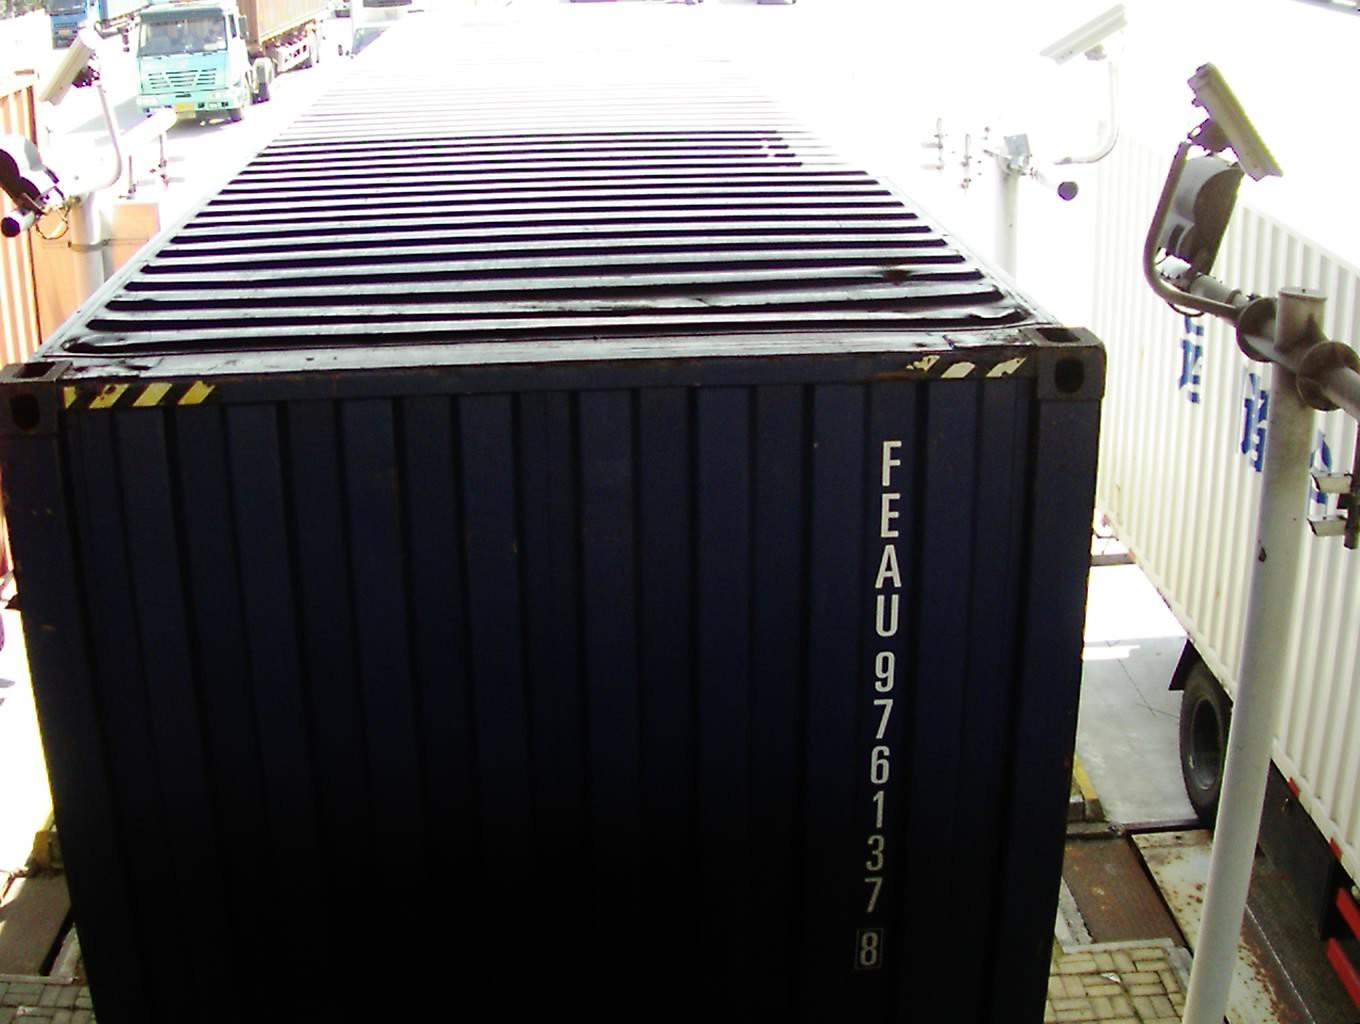words: (859, 430, 907, 972)
